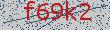2: (78, 1, 93, 26)
6: (35, 1, 50, 27)
9: (49, 1, 65, 27)
f: (19, 1, 37, 27)
k: (64, 1, 78, 27)
